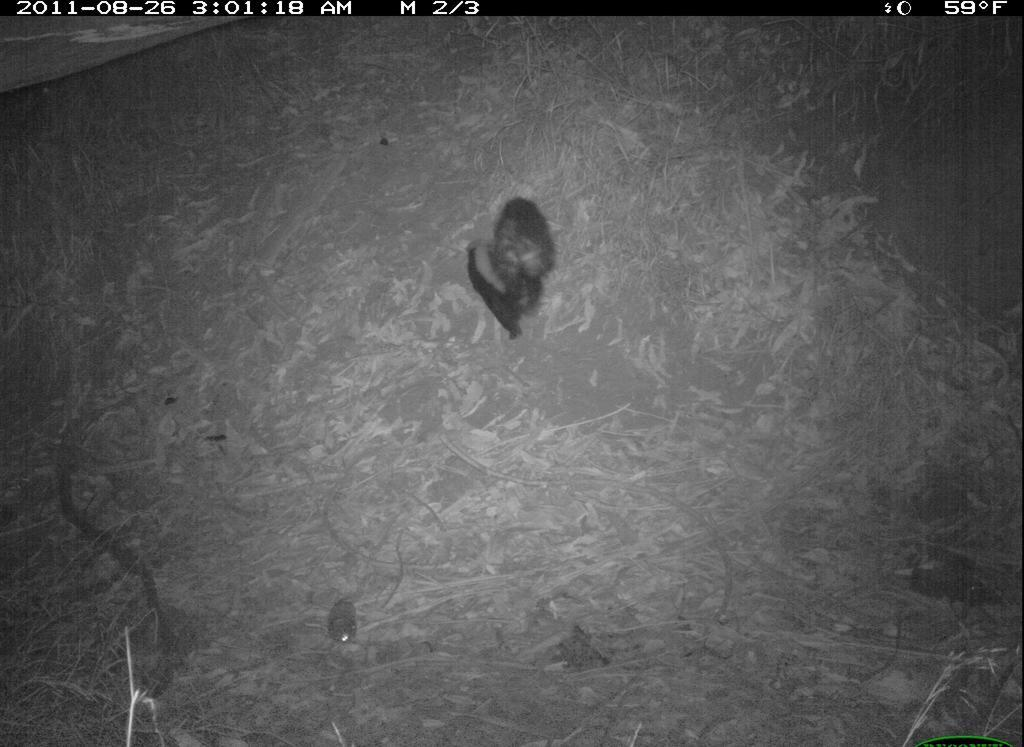skunk: (434, 177, 568, 354)
